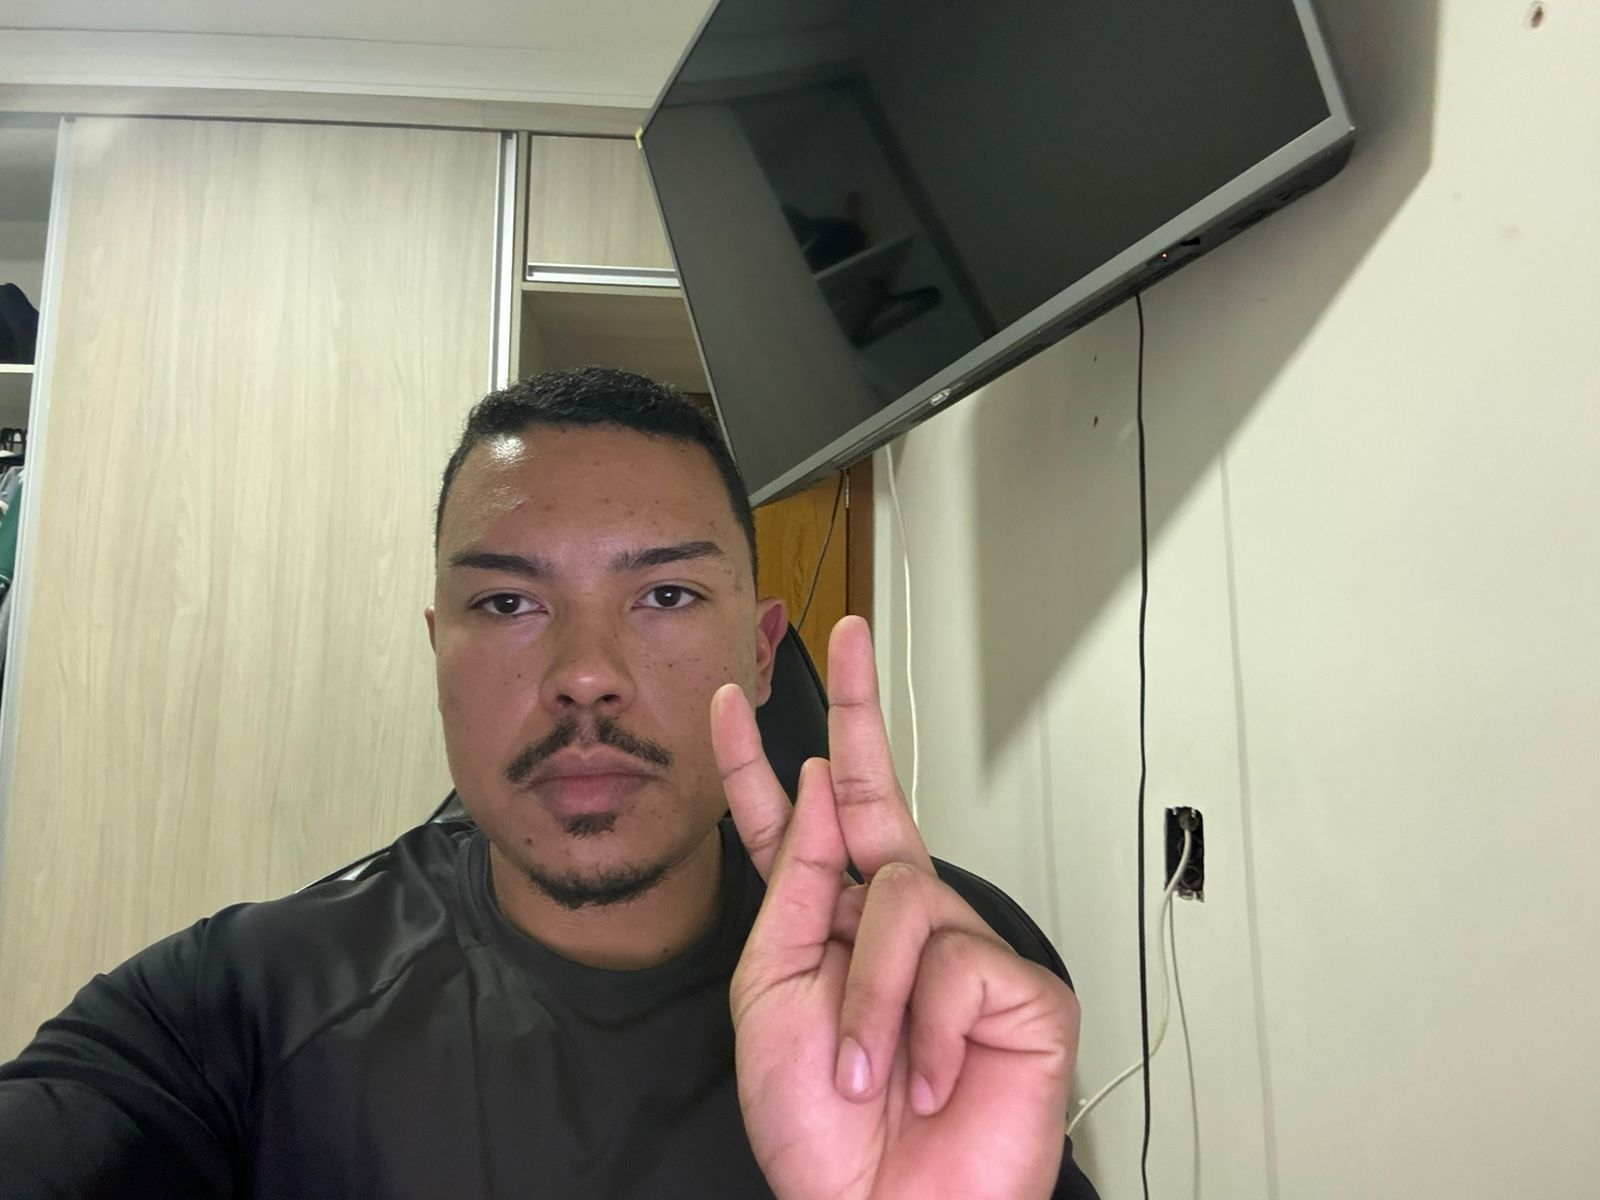k: (694, 609, 1096, 1200)
